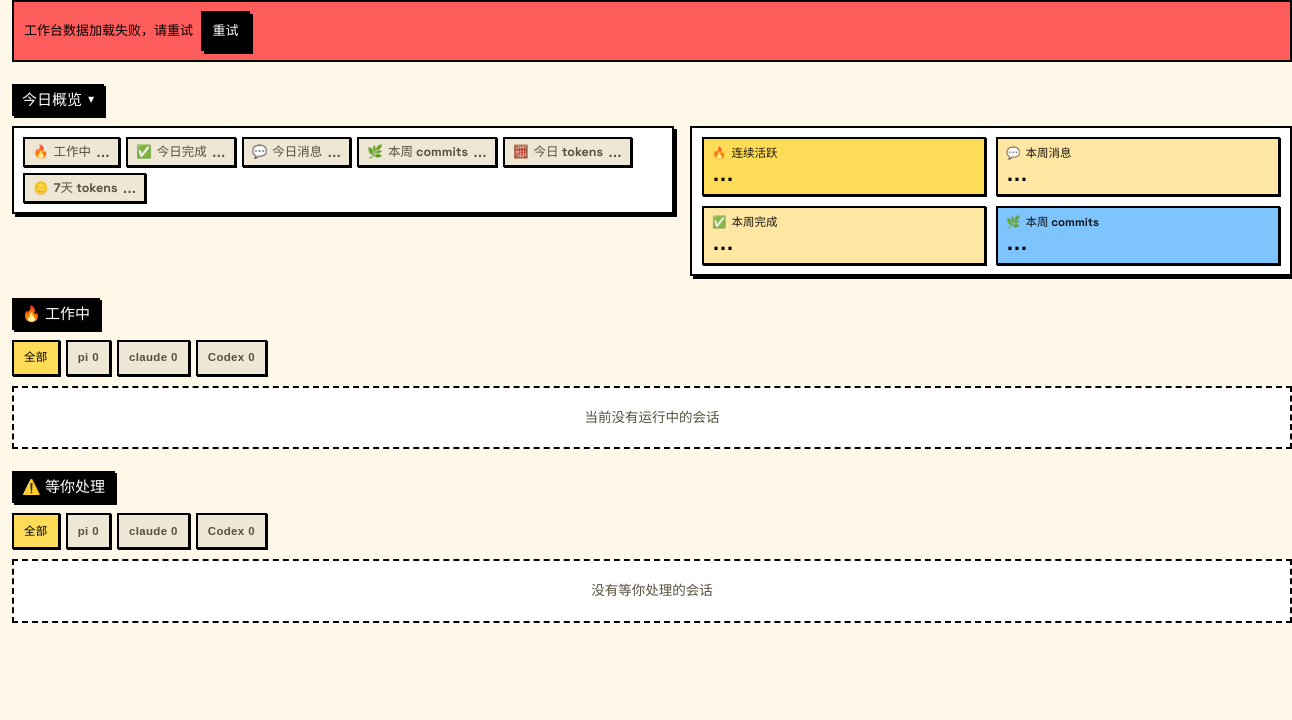
Test: HomePage dashboard 错误条 › 点「重试」拉取成功 → 错误条消失
Expected: the element with class "error-banner" is shown, [12,0,1291,62]
Click the button "重试" at (225, 31), box [201,11,250,51]
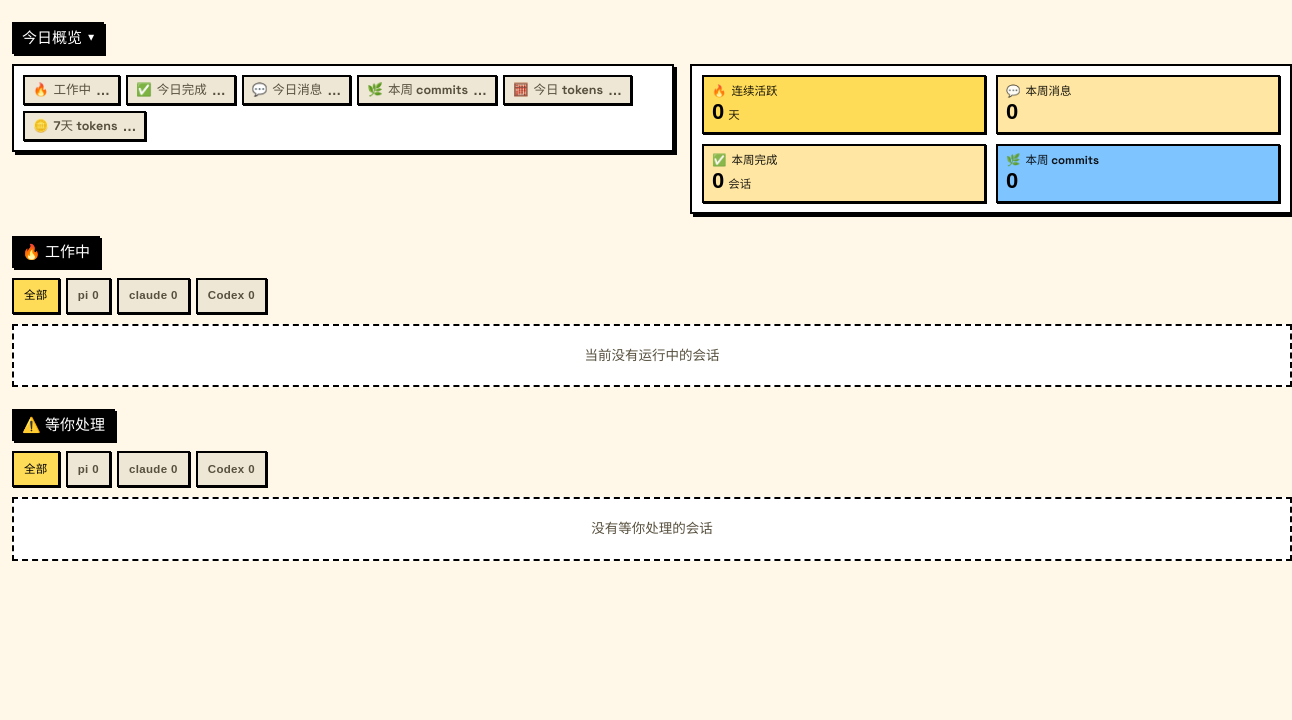
Result: the element with class "error-banner" is gone
